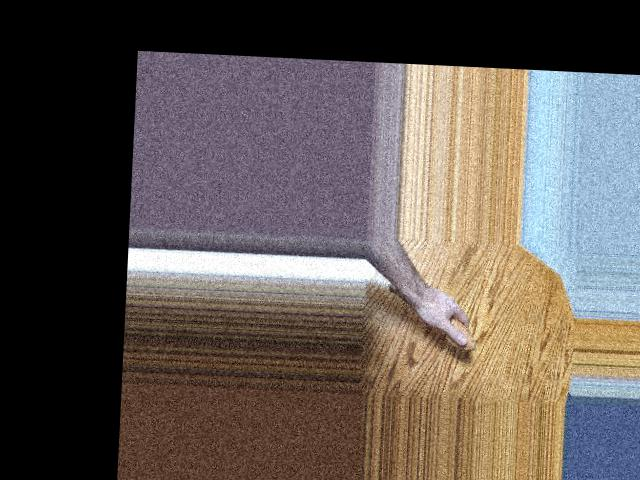sweet_potato: (381, 276, 479, 352)
